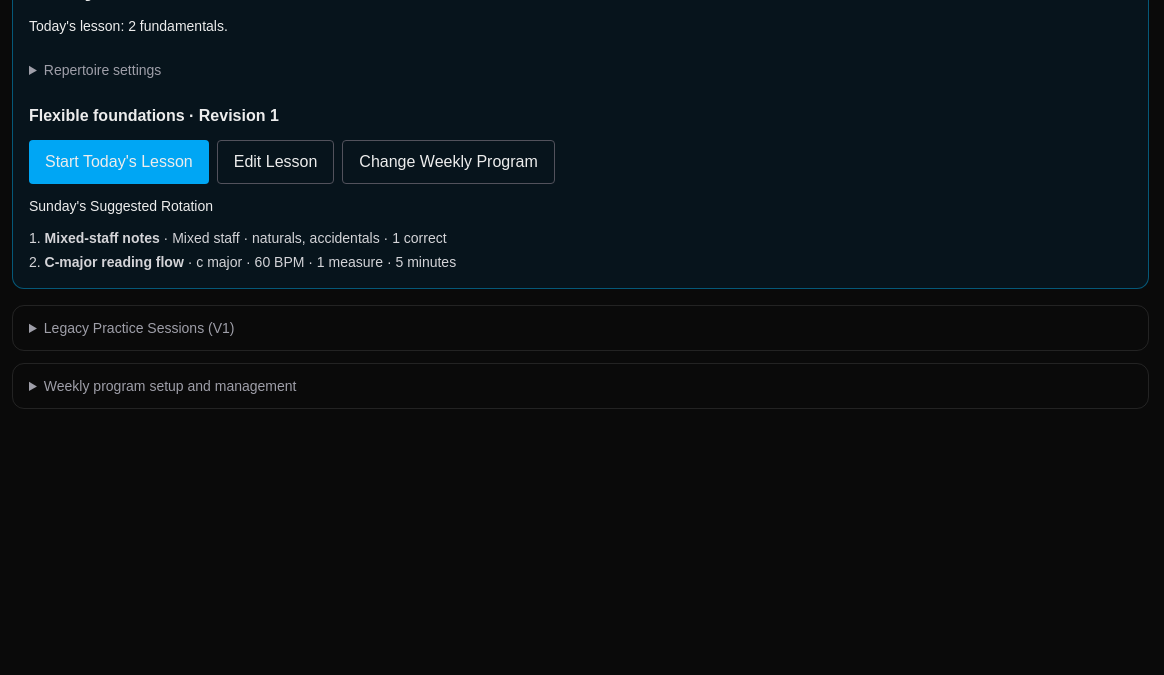
one-action morning launch through the existing V2 owner › Edit Lesson uses the existing manual pool without preparing an attempt
expect the button "Start Today's Lesson" is enabled: met, box x1=29 y1=140 x2=209 y2=184
Click the button "Edit Lesson" at (276, 162), box x1=217 y1=140 x2=334 y2=184
(page scrolled)
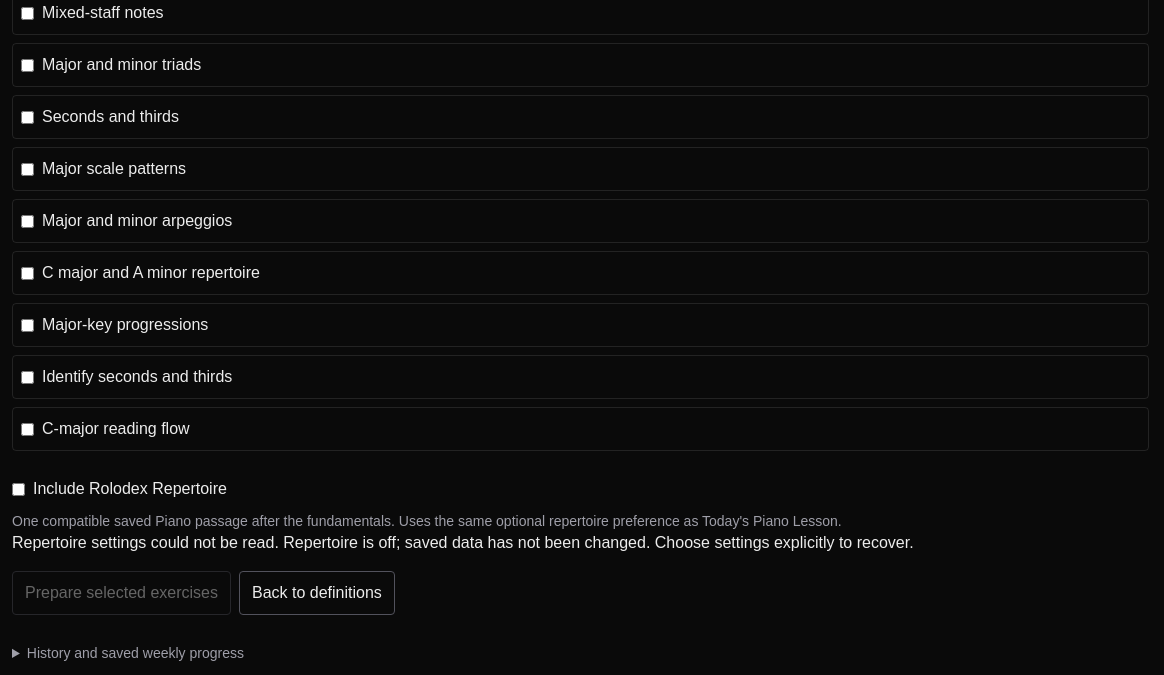
expect the button "Prepare selected exercises" is shown: met, box x1=12 y1=571 x2=231 y2=615
